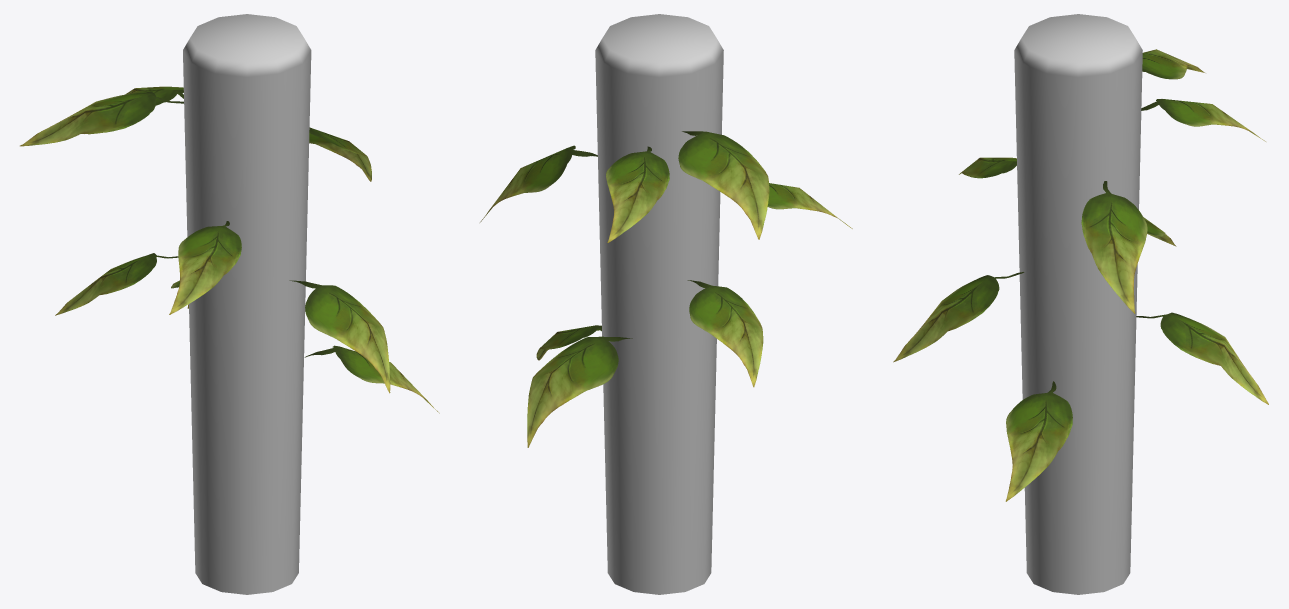
File: woodDetail2.fbx
The picture shows the model from 3 angles, left to right: view 1: azimuth 30°, elevation 25°; view 2: azimuth 150°, elevation 25°; view 3: azimuth 270°, elevation 25°; orthographic projection.
Parts seen in each view (by area): view 1: woodDetail2; view 2: woodDetail2; view 3: woodDetail2.
Boxes of the visible parts, x1=… form: woodDetail2: x1=20, y1=14, x2=439, y2=594; woodDetail2: x1=480, y1=14, x2=852, y2=594; woodDetail2: x1=893, y1=14, x2=1268, y2=594.
Bounding box in the file's own units: 2.82 × 4.4 × 2.89.
